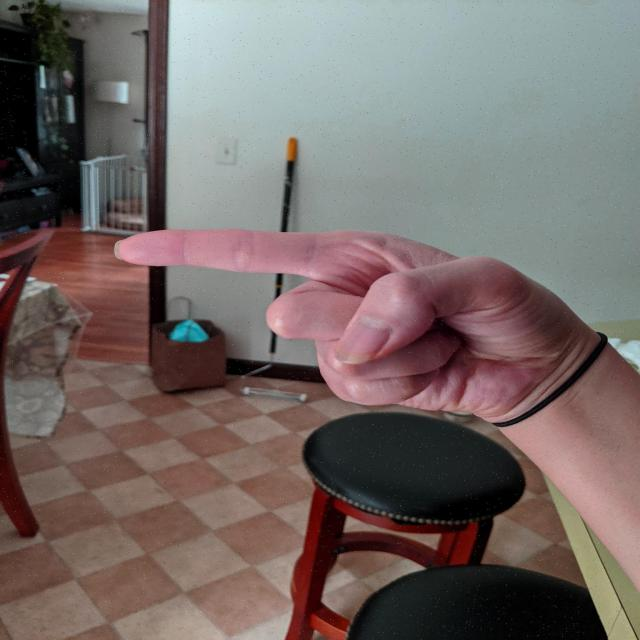G: (105, 223, 567, 423)
